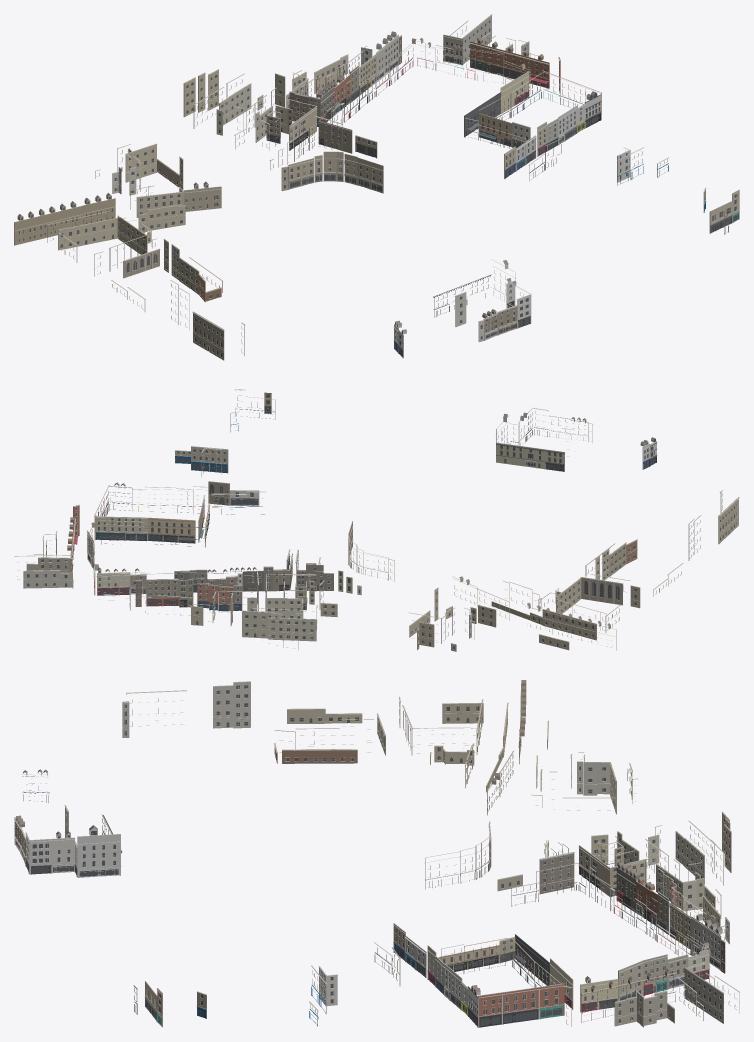
3 renders of one model, top to bottom at view 1: azimuth 30°, elevation 25°; view 2: azimuth 150°, elevation 25°; view 3: azimuth 270°, elevation 25°, orthographic. The views are drawn at different scales.
Parts seen in each view (by area): view 1: f:way/680923107, f:way/1288730353, f:relation/2196957, f:way/166155967, f:way/147456518, f:way/137017440, f:way/13864474, f:way/1288730358, f:way/166139209, f:way/137017439, f:way/1288648570, f:way/147456529 (+16 smaller); view 2: f:way/13864474, f:relation/2196957, f:way/137017440, f:way/680923107, f:way/1099846442, f:way/1288730359, f:way/229676051, f:way/137017439, f:way/147456529, f:way/137017451, f:way/147456518, f:way/1288644219 (+13 smaller); view 3: f:relation/2196957, f:way/1099846442, f:way/13864474, f:way/1288730358, f:way/147456518, f:way/95406725, f:way/1288648590, f:way/147456529, f:way/1288648570, f:way/137017439, f:way/166139209, f:way/1288644224 (+17 smaller).
Part boxes in pixels (x1,y1,x2,y2): f:way/680923107: [117, 143, 221, 217]; f:way/1288730353: [281, 151, 383, 193]; f:relation/2196957: [433, 259, 531, 342]; f:way/166155967: [14, 193, 115, 245]; f:way/147456518: [469, 33, 549, 88]; f:way/137017440: [47, 211, 156, 254]; f:way/13864474: [193, 73, 308, 142]; f:way/1288730358: [355, 117, 536, 178]; f:way/166139209: [289, 31, 401, 121]; f:way/137017439: [163, 239, 222, 302]; f:way/1288648570: [266, 102, 317, 150]; f:way/147456529: [443, 14, 492, 65]; f:way/13864474: [214, 586, 317, 641]; f:relation/2196957: [496, 407, 592, 471]; f:way/137017440: [530, 577, 606, 640]; f:way/680923107: [408, 576, 509, 649]; f:way/1099846442: [94, 482, 147, 541]; f:way/1288730359: [147, 505, 203, 543]; f:way/229676051: [175, 411, 239, 473]; f:way/137017439: [585, 539, 637, 580]; f:way/147456529: [14, 555, 73, 588]; f:way/137017451: [580, 574, 630, 605]; f:way/147456518: [26, 517, 77, 572]; f:way/1288644219: [146, 573, 179, 606]; f:relation/2196957: [14, 805, 121, 877]; f:way/1099846442: [467, 961, 564, 1027]; f:way/13864474: [617, 820, 723, 911]; f:way/1288730358: [393, 882, 539, 977]; f:way/147456518: [581, 969, 703, 1027]; f:way/95406725: [213, 681, 250, 728]; f:way/1288648590: [549, 958, 618, 1012]; f:way/147456529: [684, 962, 739, 1023]; f:way/1288648570: [578, 841, 629, 896]; f:way/137017439: [274, 719, 373, 763]; f:way/166139209: [630, 858, 725, 973]; f:way/1288644224: [539, 842, 574, 894].
Size of the model in its own units: 265 by 21.76 by 253.
